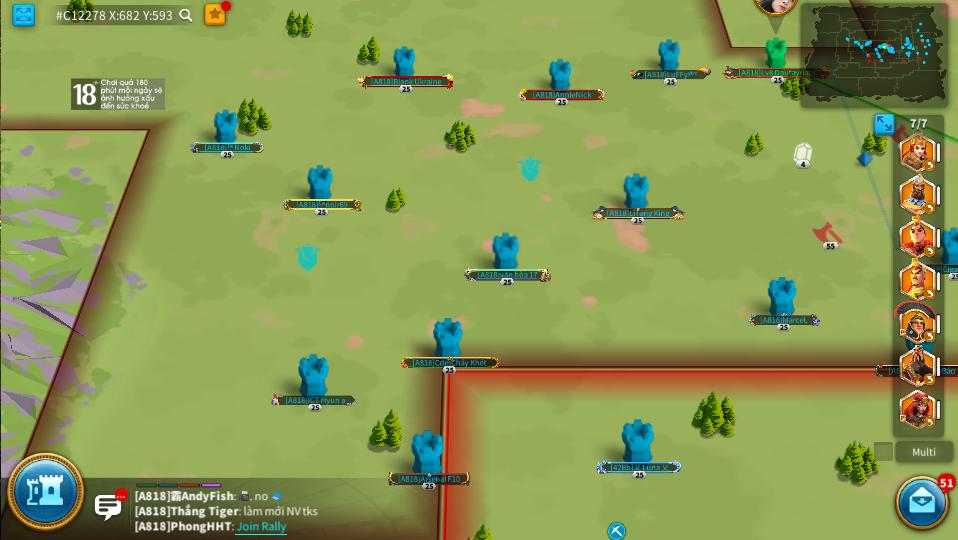gem-z-out: (793, 142, 812, 168)
march_idle: (814, 223, 842, 249)
march_returning: (924, 288, 935, 300), (924, 374, 936, 385), (924, 160, 935, 171), (924, 202, 935, 213), (925, 245, 935, 256), (925, 332, 935, 342), (925, 417, 935, 427)
